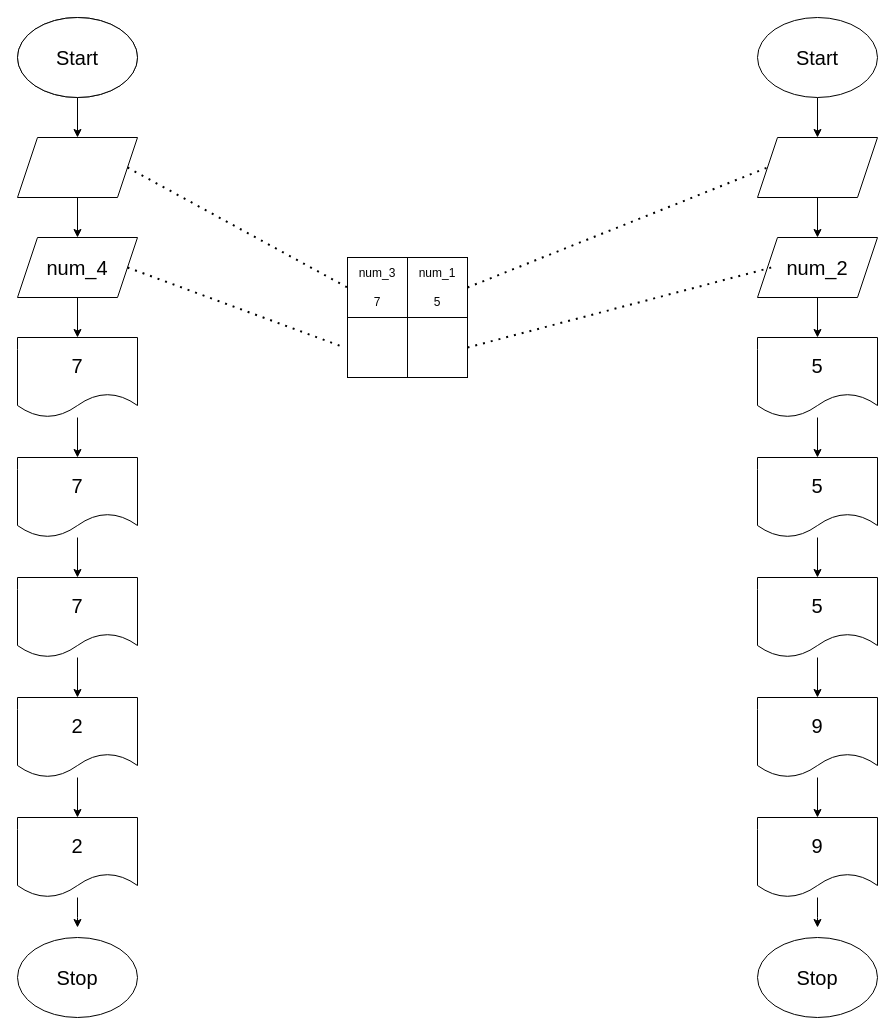
Some shapes in this 895 by 1035 pixel diagram are drawn without their labels. Each missing label, with the box of its shape:
num_1: (756, 136, 878, 198)
num_2 9: (406, 316, 468, 378)
num_3: (16, 136, 138, 198)
num_4 2: (346, 316, 408, 378)
